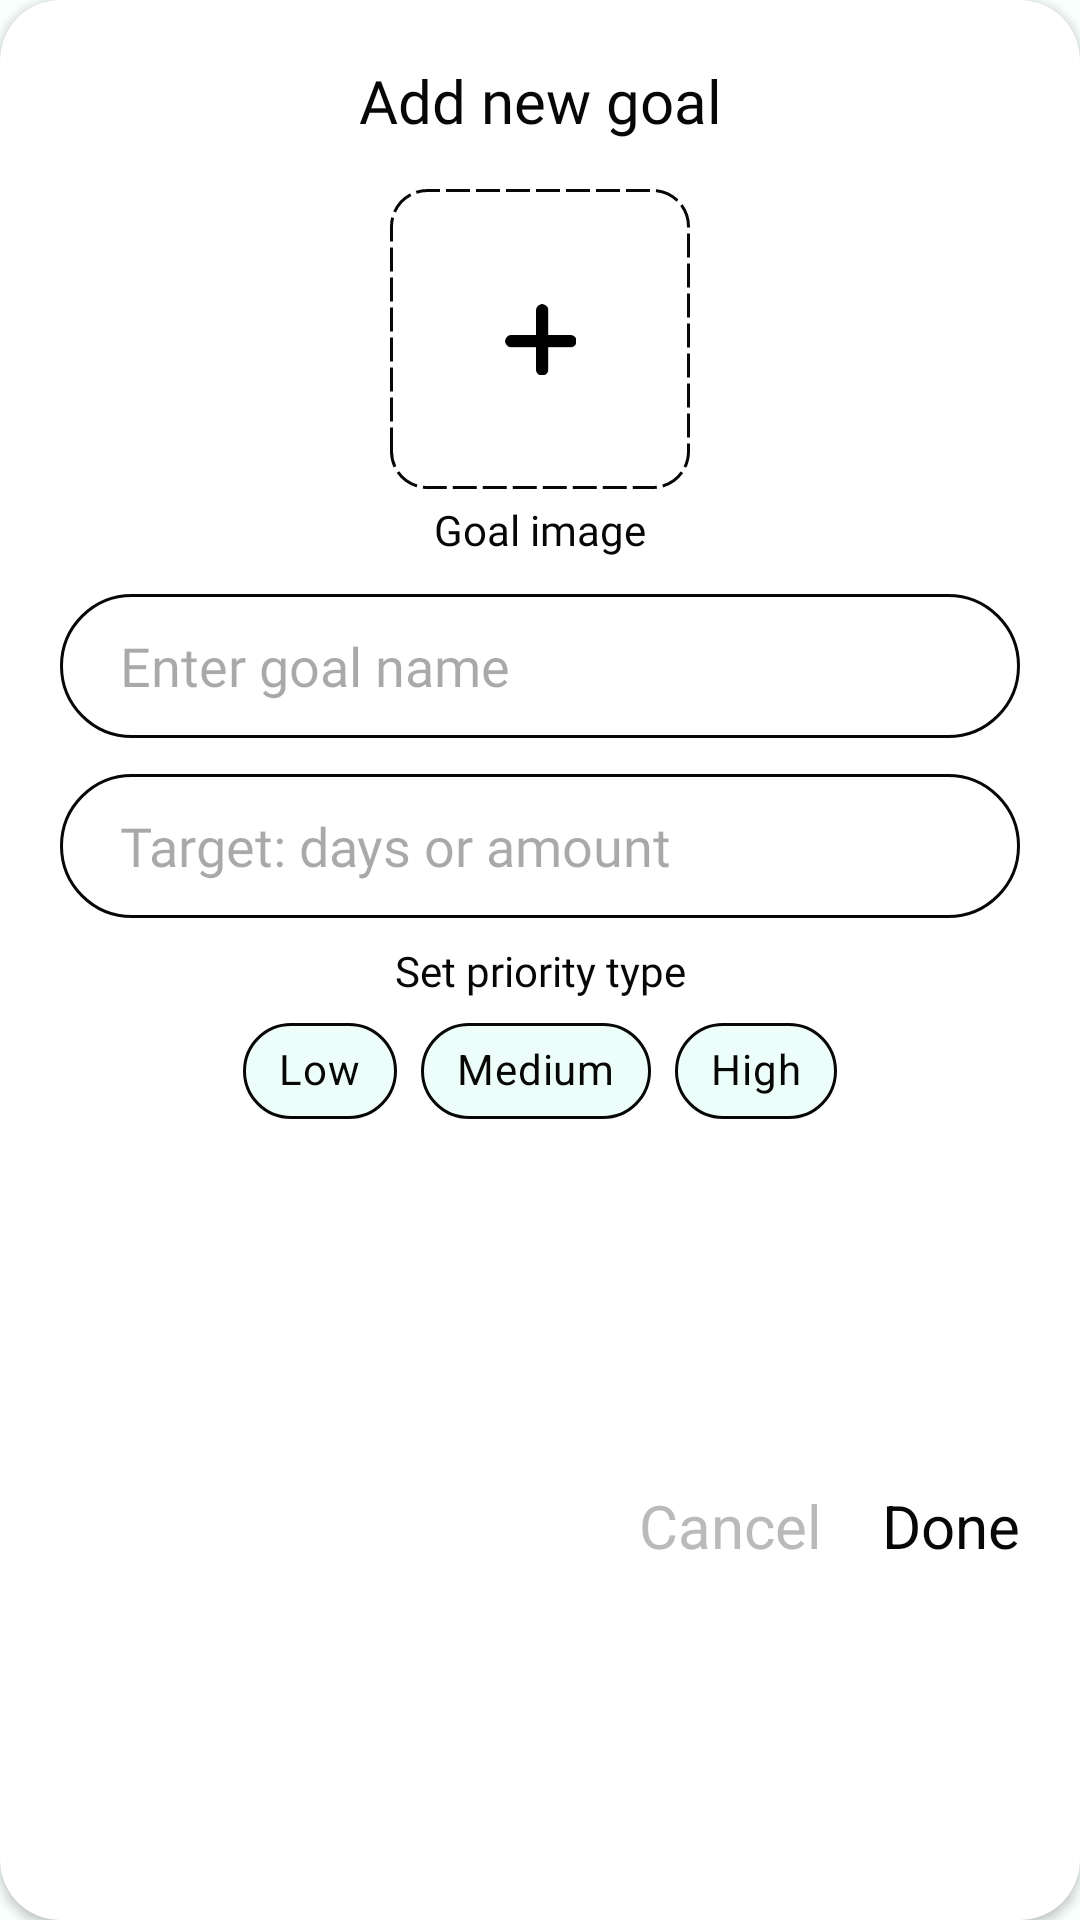

Screen size 1080 × 1920. Icon name, then its box in pixels as (x1, y1, x2, y2):
plus: (505, 304, 576, 375)
